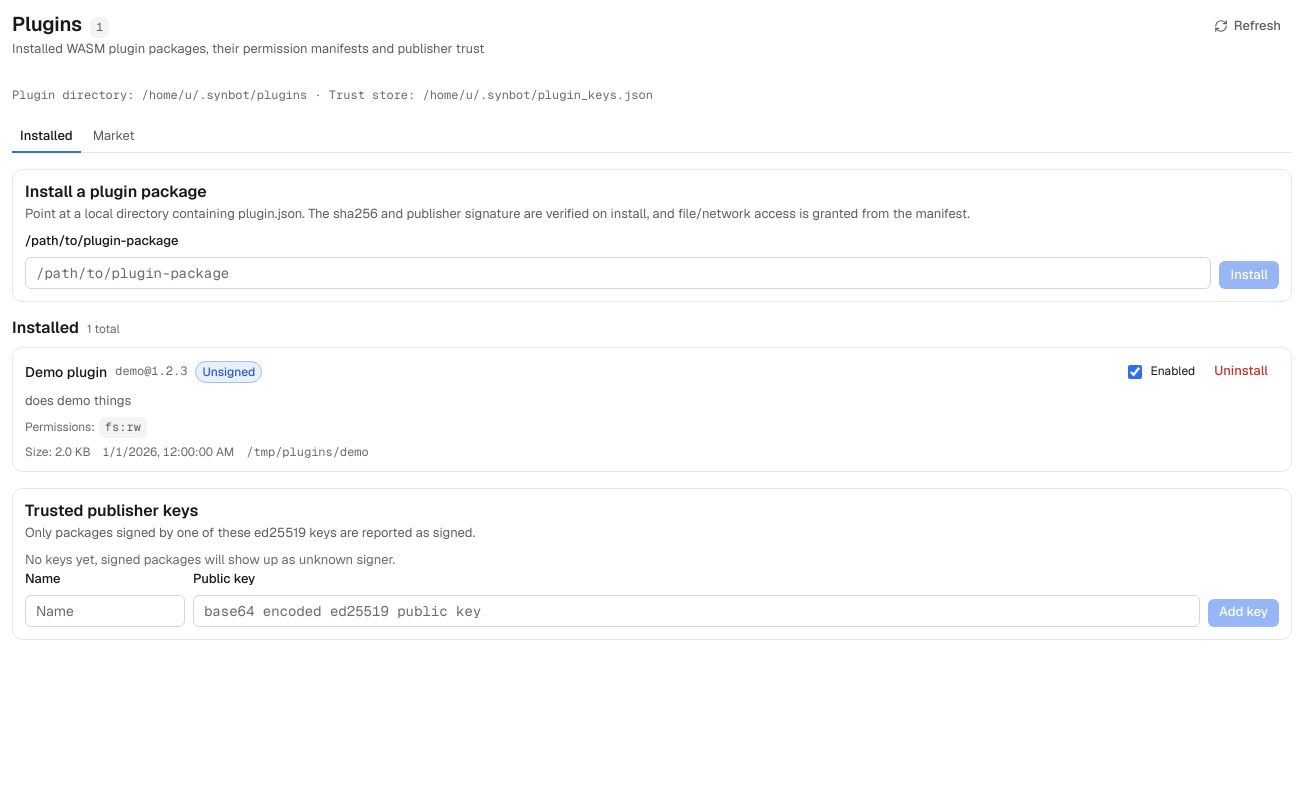
Test case: Plugins › surfaces broken market sources next to the working entries
What coordinates should you click on to do the following:
click the tab "Market"
I would click on:
 (114, 137)
Its box is 85,121 -> 142,153.
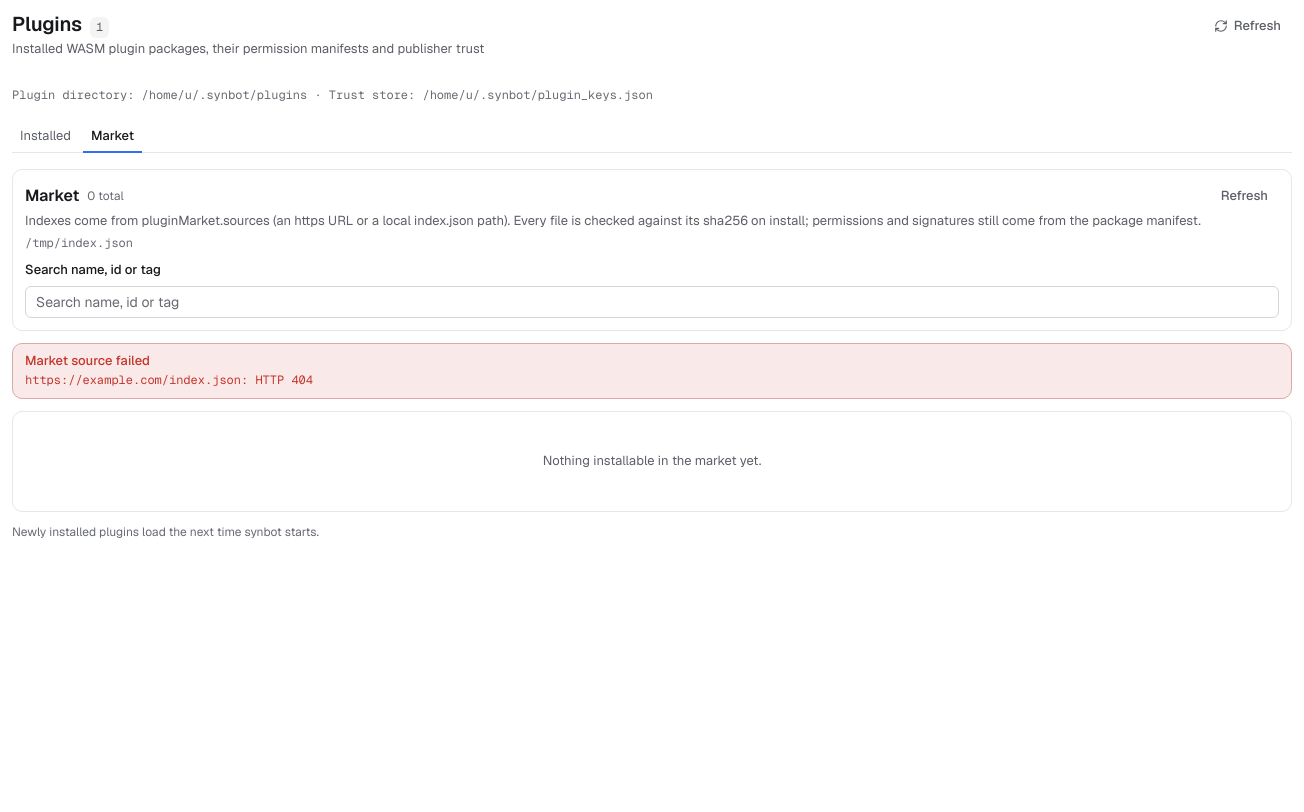
Check: the text "Market source failed" is shown, box 25,352 -> 150,368
Check: the text "https://example.com/index.json: HTTP 404" is shown, box 25,372 -> 313,388
